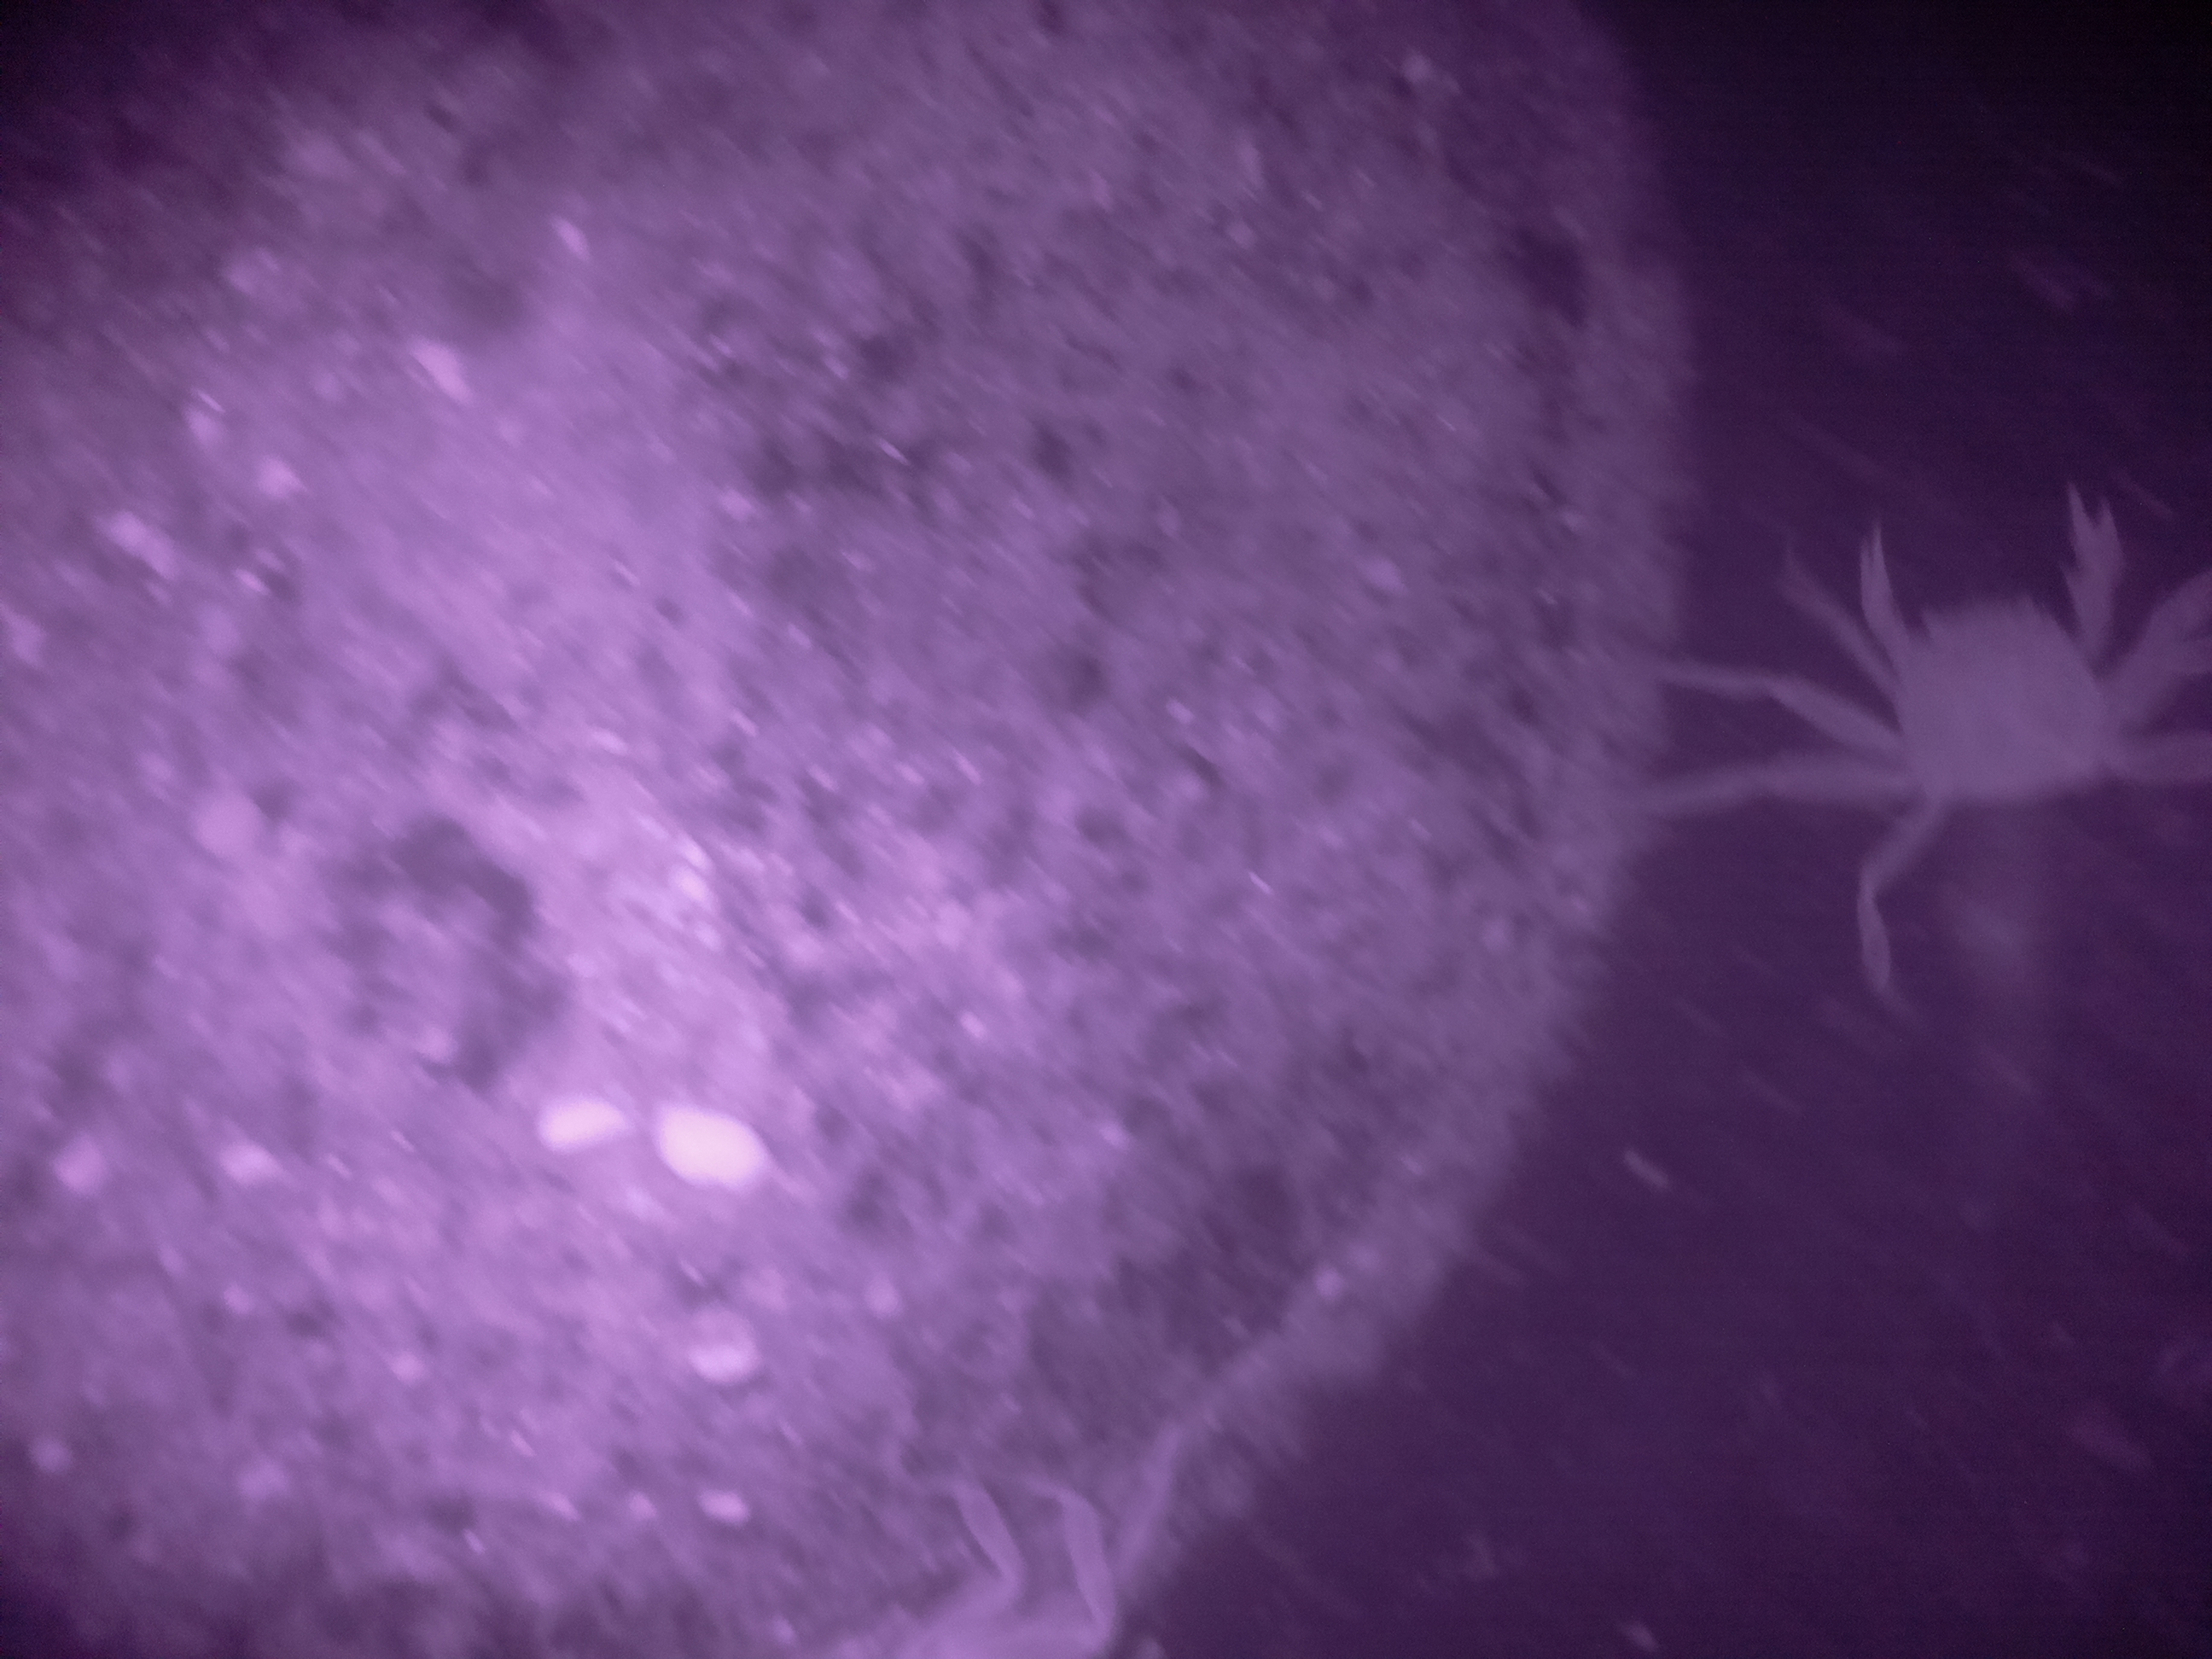Crab: (1754, 455, 2212, 913)
